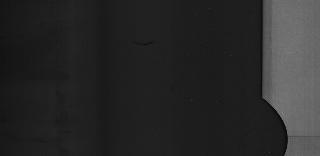welding line: (283, 132, 319, 142)
